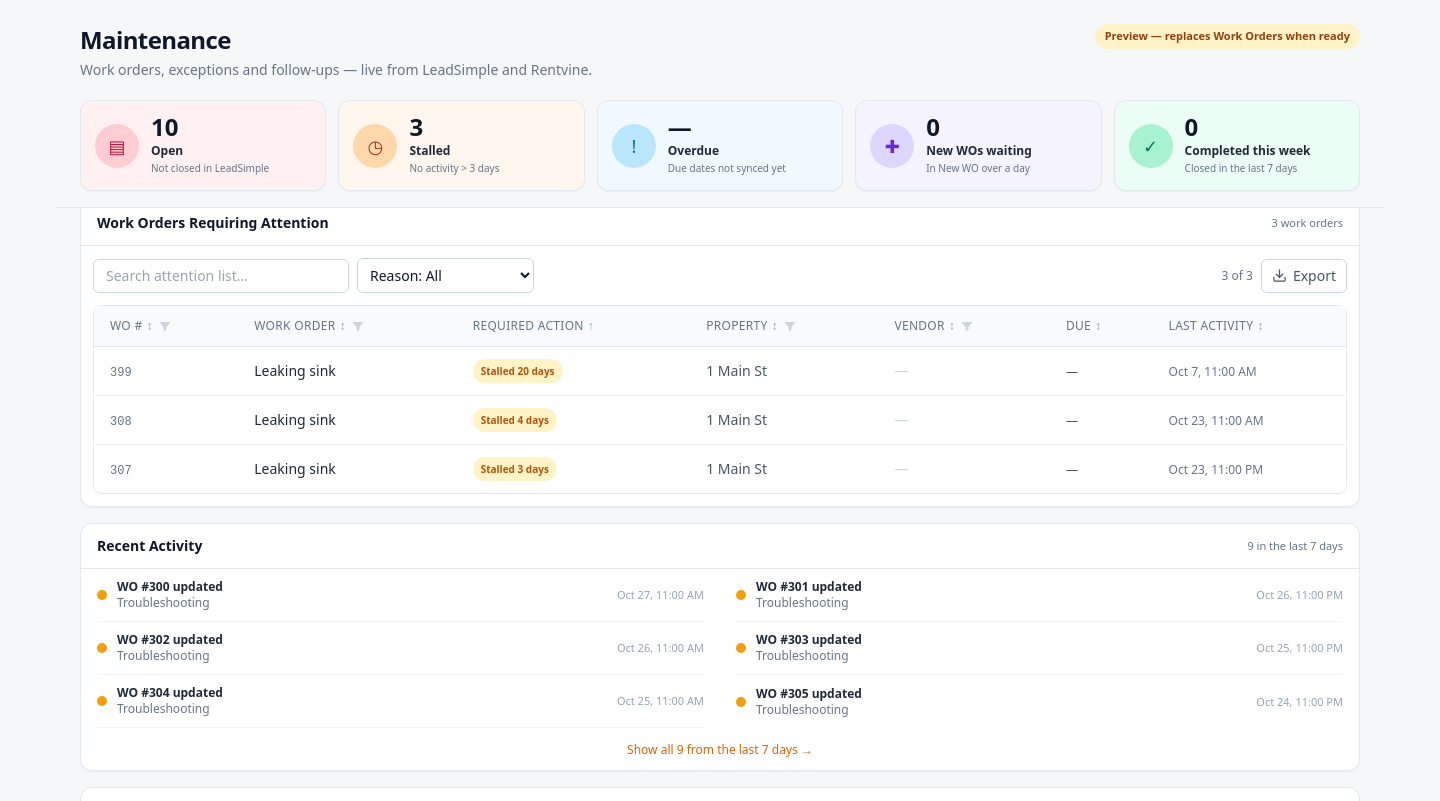
Test: MaintenanceView › shows the latest 6 activities and expands to everything from the last 7 days
Expected: the number of list items is 6, [97, 569, 704, 622]; [736, 569, 1343, 622]; [97, 622, 704, 675]; [736, 622, 1343, 675]; [97, 675, 704, 728]; [736, 675, 1343, 728]
Click the button "Show all 9 from the last 7 days →": (720, 750) [81, 742, 1359, 758]
(page scrolled)
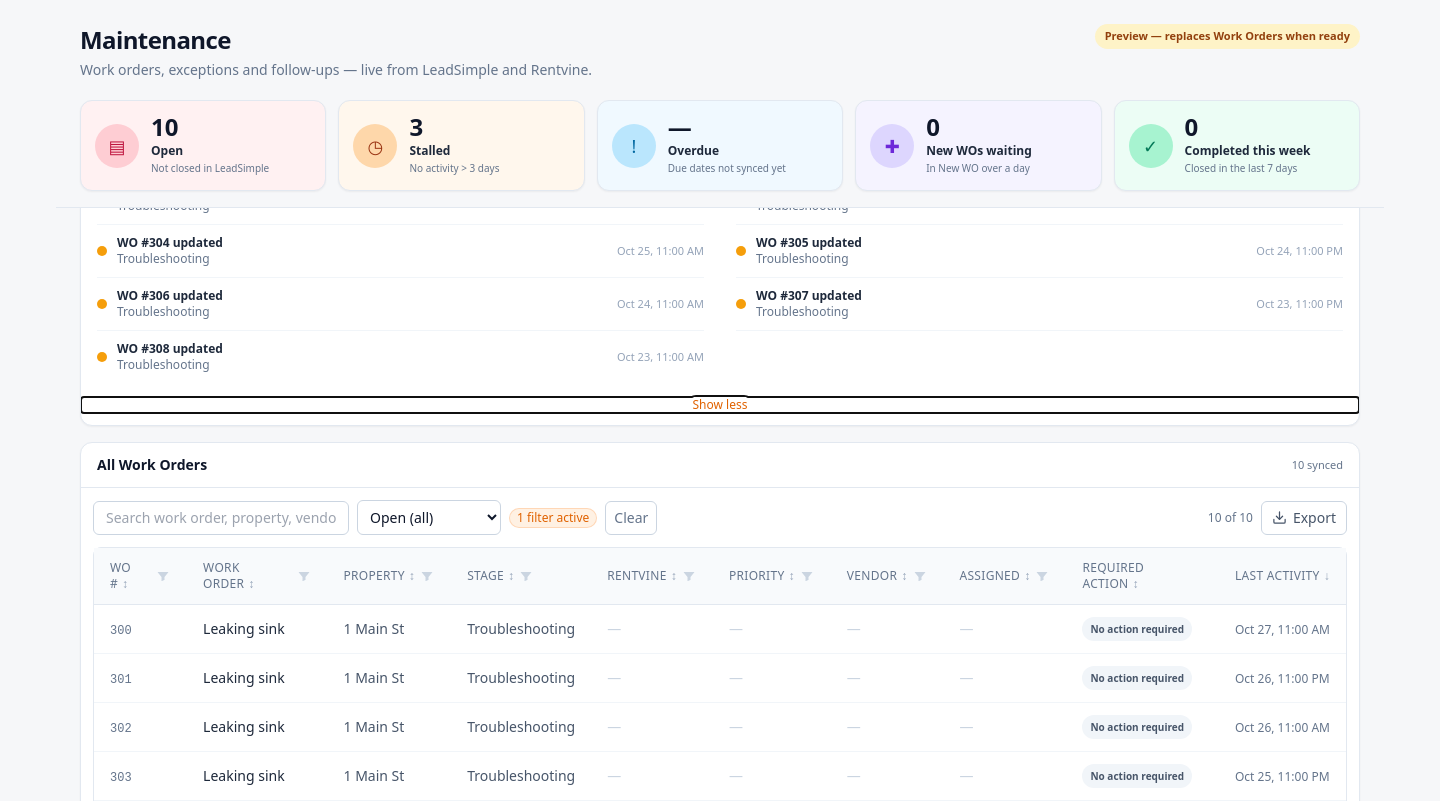
Now the number of list items is 9
Click the button "Show less": (720, 405) [81, 397, 1359, 413]
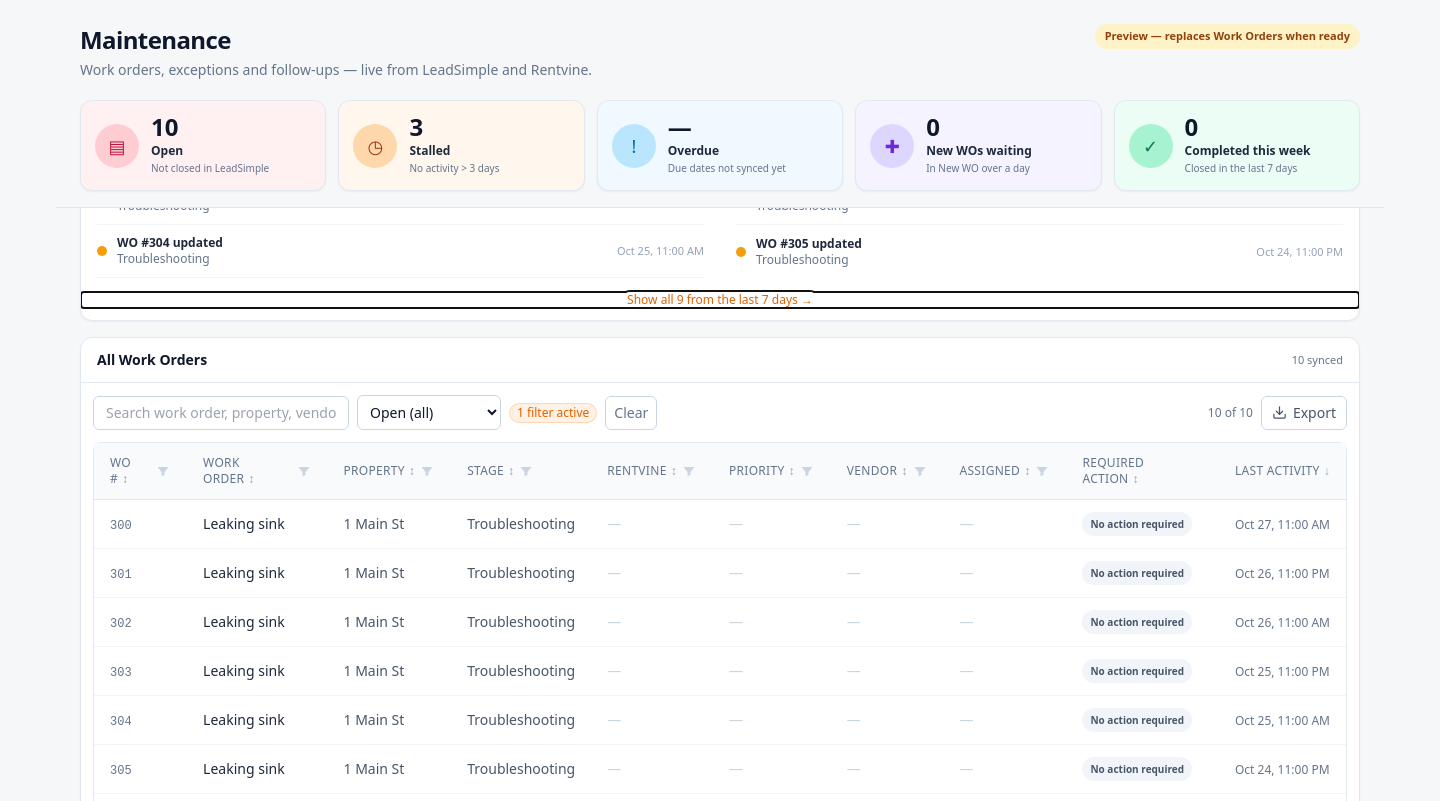
Now the number of list items is 6, box [97, 119, 704, 172]; [736, 119, 1343, 172]; [97, 172, 704, 225]; [736, 172, 1343, 225]; [97, 225, 704, 278]; [736, 225, 1343, 278]
